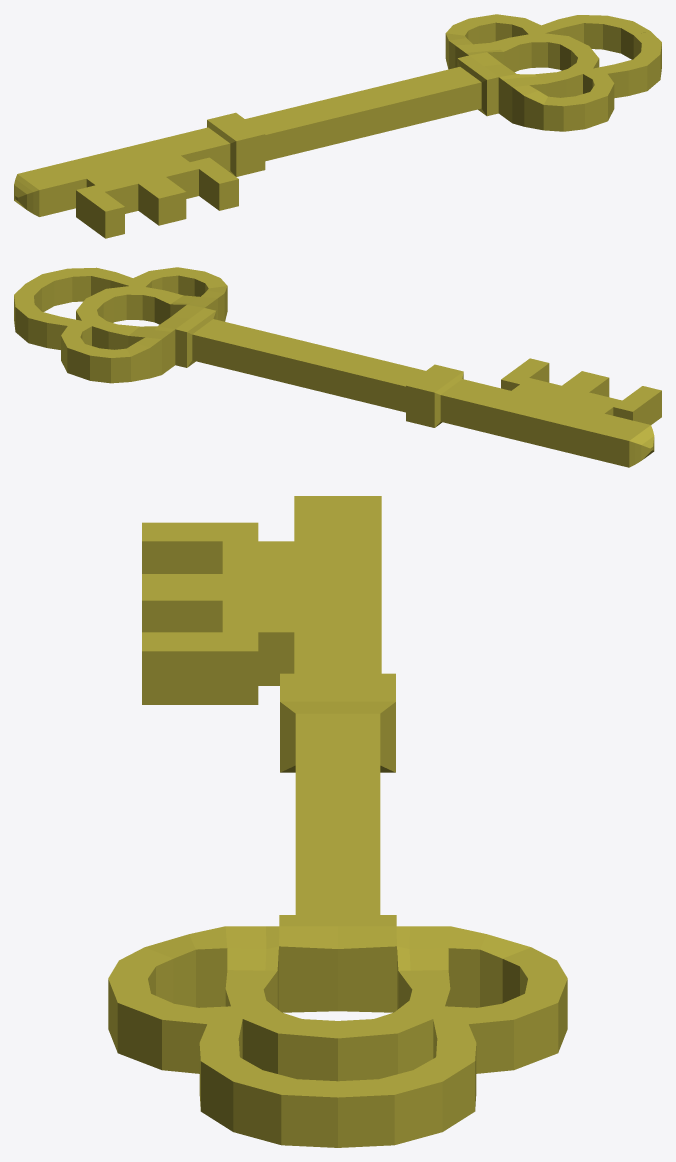
File: S_LowKey.fbx
3 views of the same model, one above another, from view 1: azimuth 30°, elevation 25°; view 2: azimuth 150°, elevation 25°; view 3: azimuth 270°, elevation 25° (orthographic). The views are drawn at different scales.
Visible parts, largest first — view 1: S_Key; view 2: S_Key; view 3: S_Key.
Boxes of the visible parts, left/top/right/bottom form: S_Key: left=14, top=14, right=661, bottom=238; S_Key: left=14, top=267, right=661, bottom=467; S_Key: left=108, top=496, right=567, bottom=1147.
Size of the model in its own units: 18.16 by 0.9942 by 5.77.
